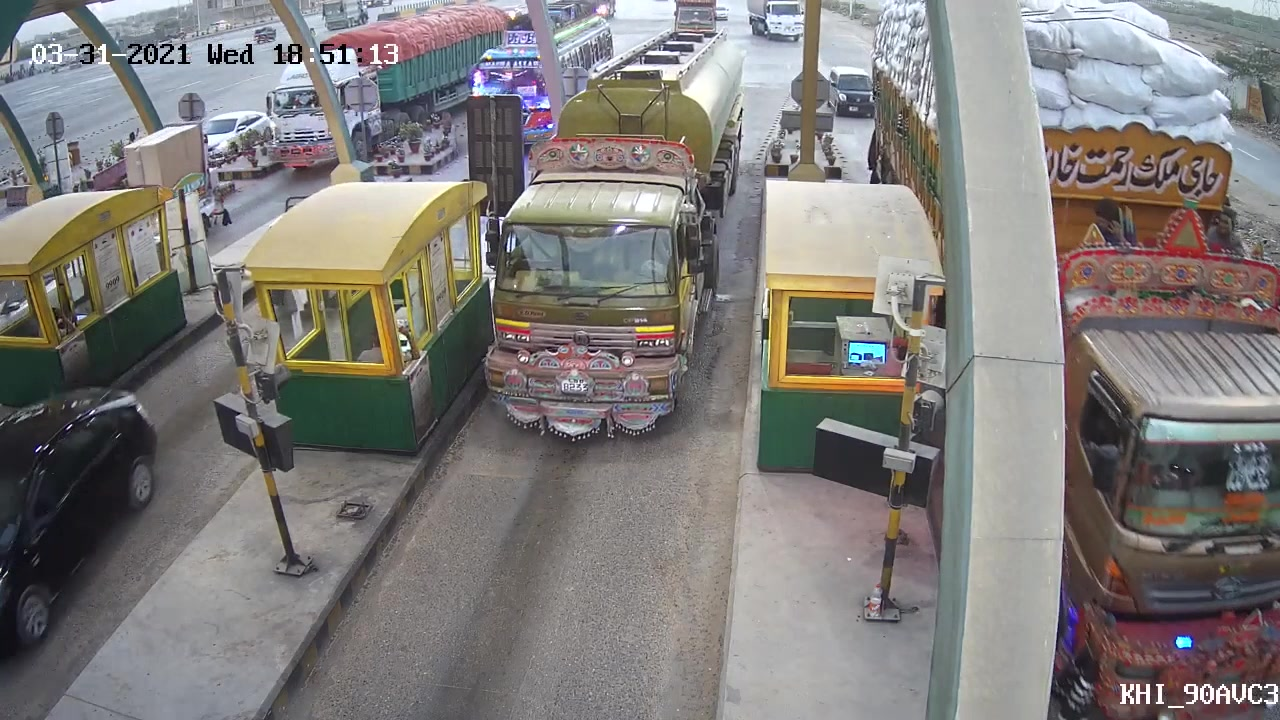F6: (479, 26, 748, 443)
